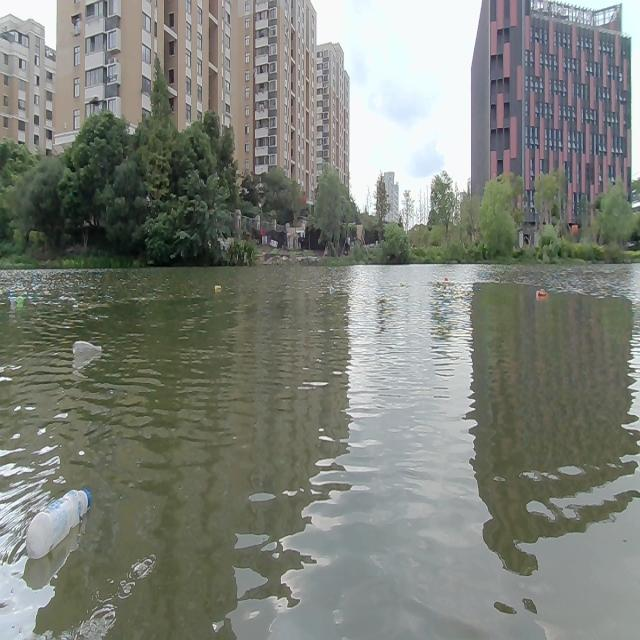bottle: (24, 481, 90, 560), (71, 338, 103, 358), (536, 287, 548, 300), (18, 294, 27, 308), (212, 282, 224, 290)
